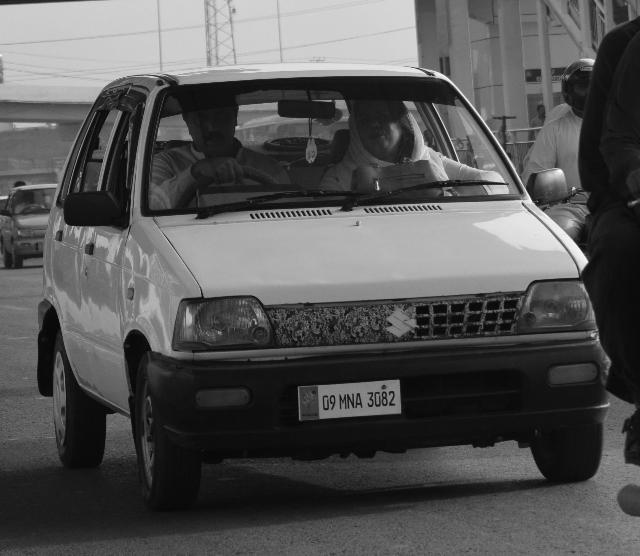Number: (322, 388, 398, 412)
